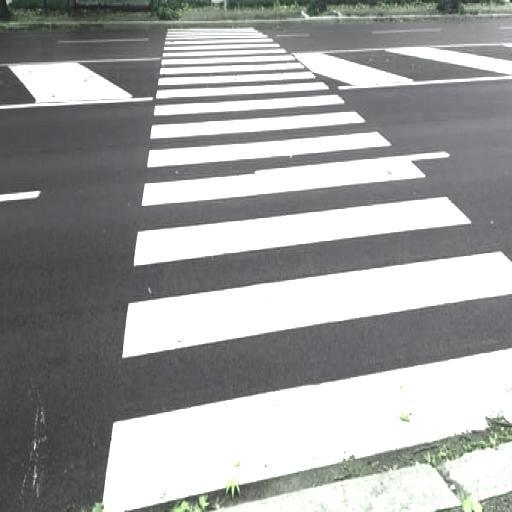crosswalk: (110, 153, 486, 270), (149, 80, 349, 115), (156, 44, 286, 54)
